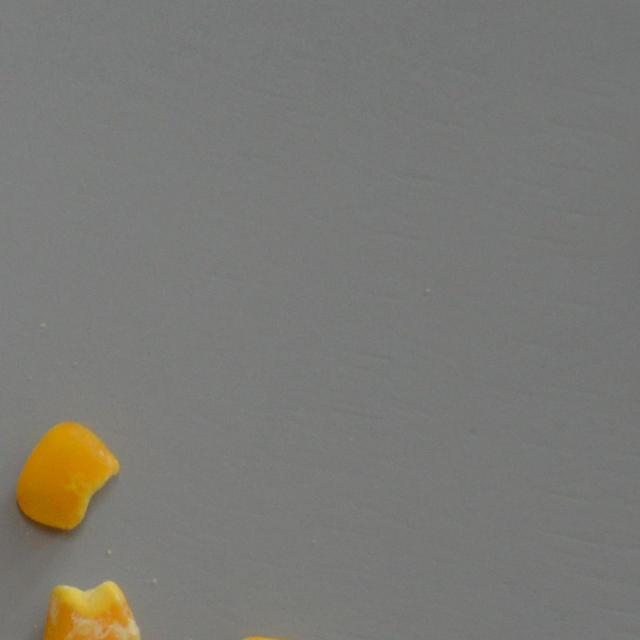no_canjicado: (15, 420, 120, 530)
pelicula: (42, 580, 142, 640)
